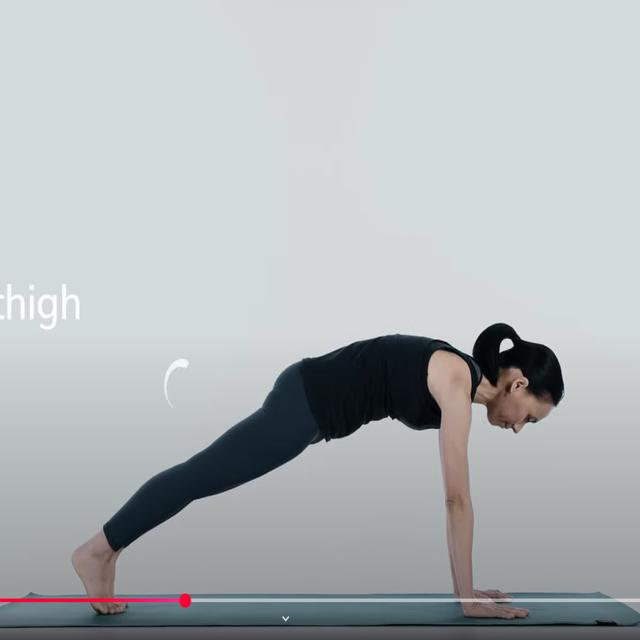Plank_Pose: (56, 321, 581, 640)
